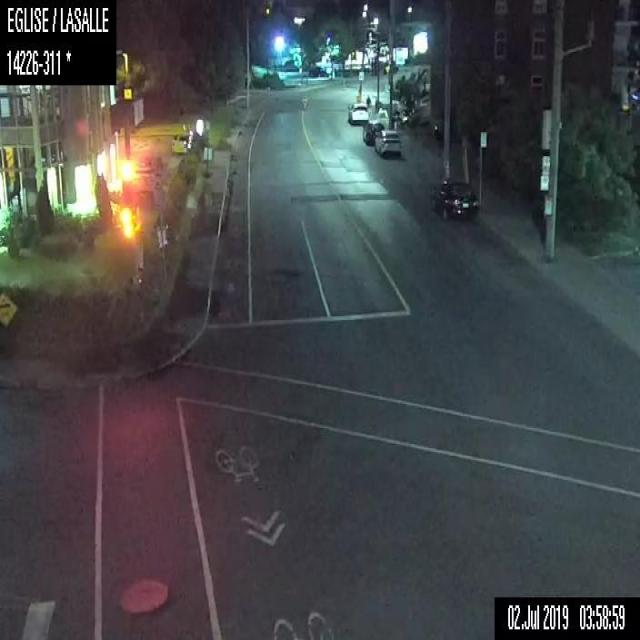pedestrian: (365, 93, 370, 108)
vehicle: (427, 175, 479, 220), (375, 130, 402, 157), (171, 122, 193, 155), (363, 117, 385, 148), (347, 102, 369, 127)
